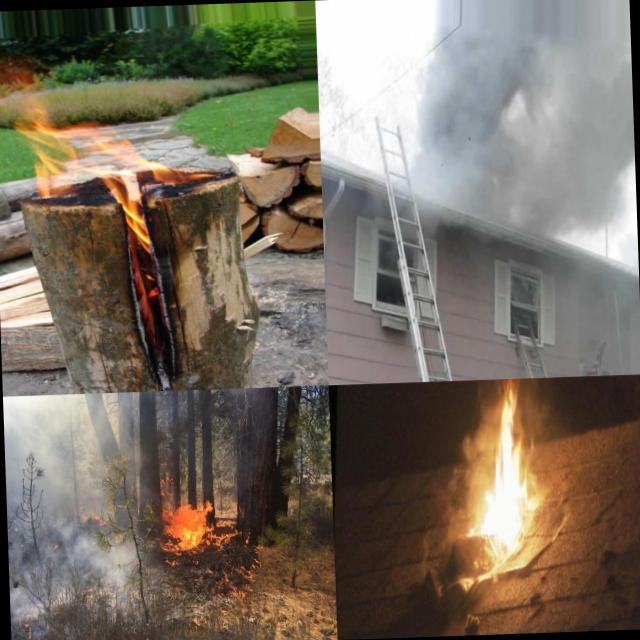fire: (11, 87, 211, 240), (478, 482, 538, 559), (492, 380, 534, 484), (161, 499, 216, 556)
smoke: (390, 75, 638, 258), (7, 536, 133, 640), (120, 387, 267, 432), (110, 432, 160, 535), (462, 383, 495, 484), (430, 484, 481, 539), (417, 538, 452, 580)
